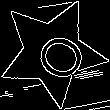O_NW: (20, 21, 85, 83)
